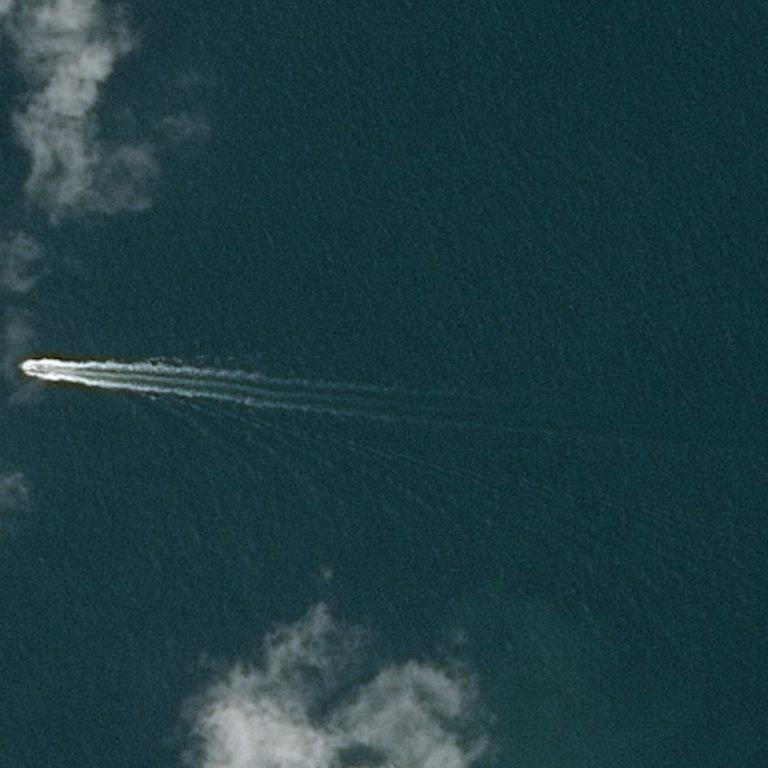ship: (20, 363, 48, 374)
